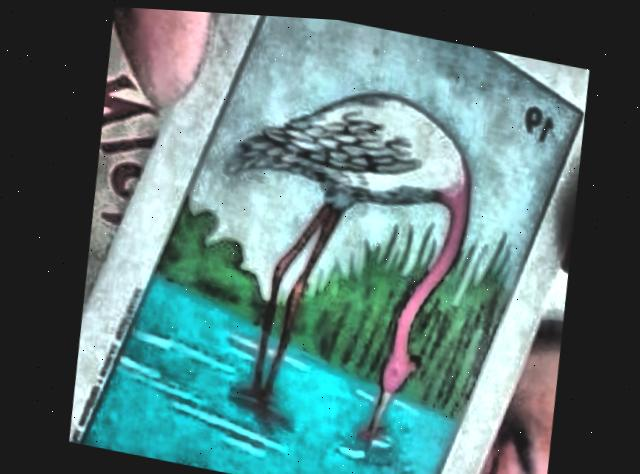El Garza: (76, 12, 584, 474)
